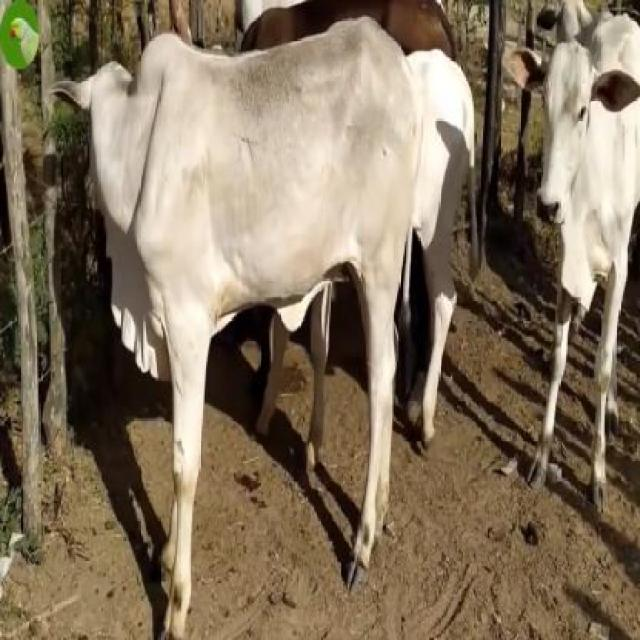Cow: (57, 17, 423, 638), (500, 14, 638, 512)
